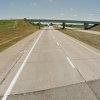Bridge: (24, 9, 99, 29)
